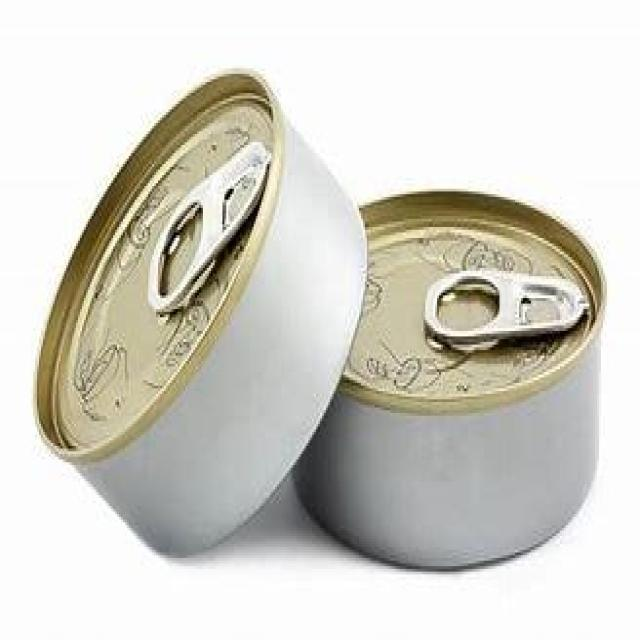can: (31, 63, 370, 563), (292, 189, 608, 574)
pop tab: (148, 137, 269, 319), (424, 266, 586, 354)
